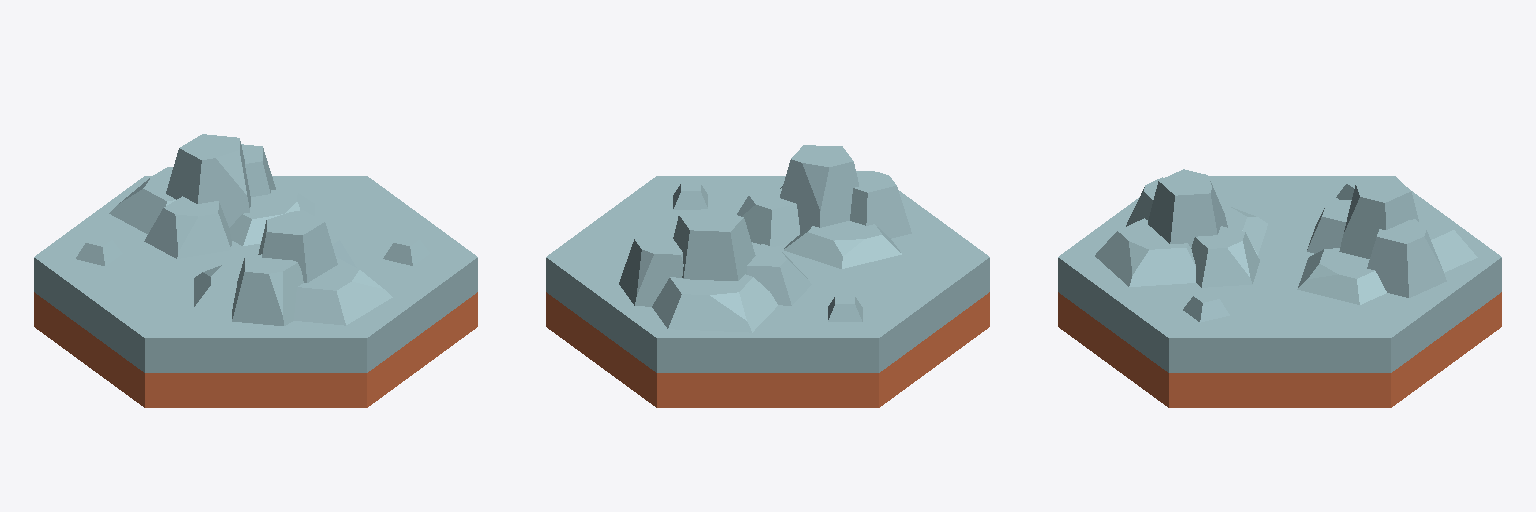
File: stone_rocks.obj
3 renders of one model, left to right at view 1: azimuth 30°, elevation 25°; view 2: azimuth 150°, elevation 25°; view 3: azimuth 270°, elevation 25°, orthographic.
Visible parts, largest first — view 1: stone_rocks, rockLarge, rock; view 2: stone_rocks, rockLarge, rock; view 3: stone_rocks, rockLarge, rock.
Boxes of the visible parts, x1,y1,x2,y2 form: stone_rocks: [34, 176, 477, 407]; rockLarge: [109, 134, 392, 325]; rock: [76, 236, 429, 265]; stone_rocks: [546, 176, 989, 407]; rockLarge: [619, 145, 911, 332]; rock: [673, 183, 862, 321]; stone_rocks: [1058, 176, 1501, 407]; rockLarge: [1095, 169, 1477, 304]; rock: [1183, 181, 1356, 322].
Size of the model in its own units: 1 by 0.4061 by 1.15.